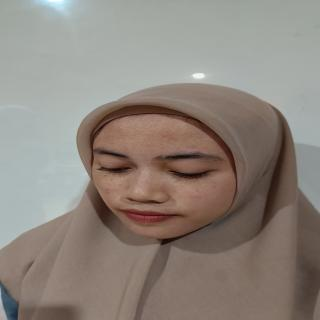Sedih: (81, 110, 248, 247)
